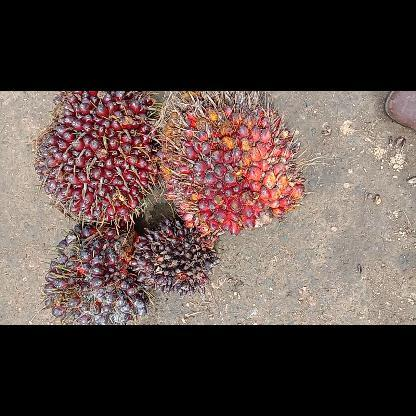Kurang masak: (31, 91, 158, 225), (42, 220, 150, 324)
TBS abnormal: (130, 216, 220, 300)
TBS masak: (156, 91, 309, 241)
